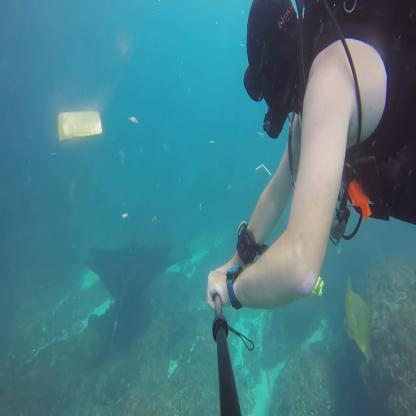Rác: (344, 270, 374, 362), (54, 109, 111, 139)
